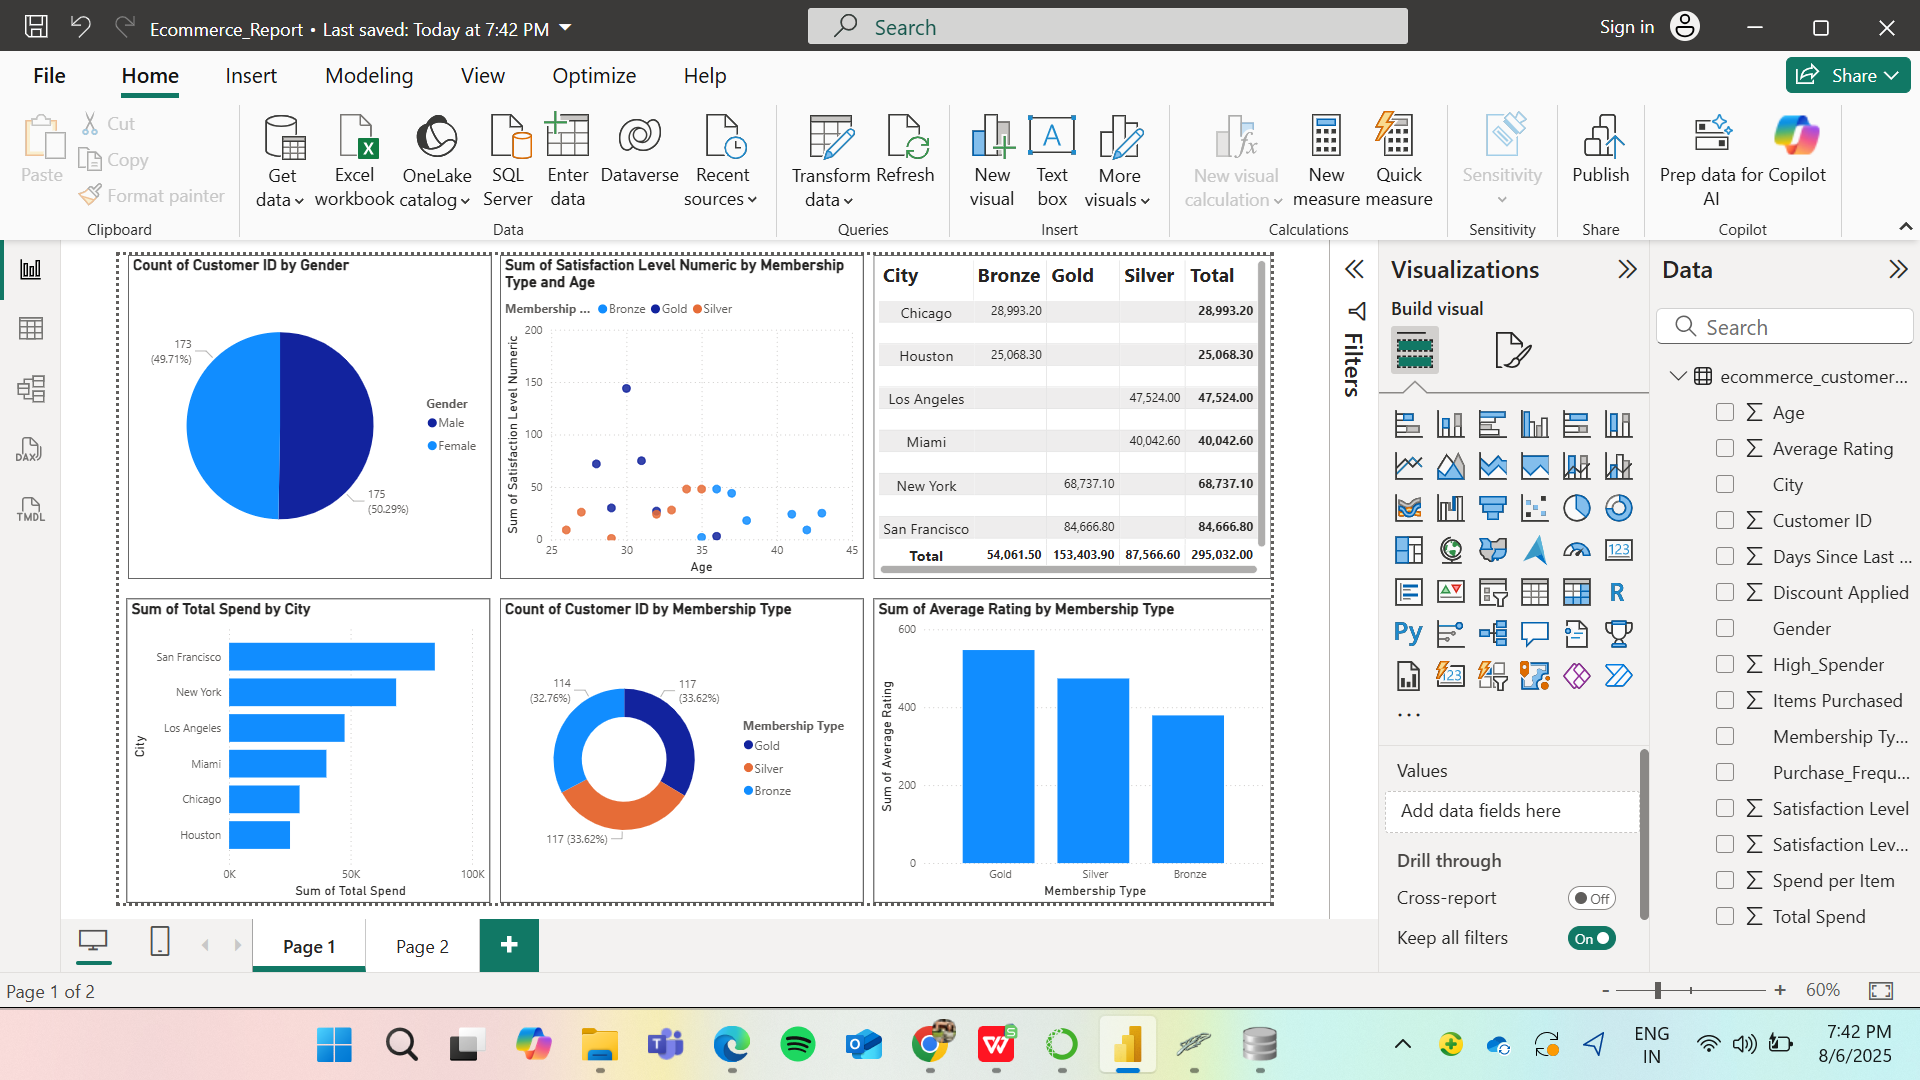

Layout of this report page (visuals, bound fields, positions):
{"tool":"powerbi","page":{"name":"Page 1","canvas":[1280,720],"ordinal":0},"visuals":[{"type":"pieChart","fields":{"Category":["ecommerce_customers_2.Gender"],"Y":["CountNonNull(ecommerce_customers_2.Customer ID)"]},"box":[10,0,404,360],"z":0},{"type":"clusteredBarChart","fields":{"Category":["ecommerce_customers_2.City"],"Y":["Sum(ecommerce_customers_2.Total Spend)"]},"box":[9,382,404,338],"z":1000},{"type":"scatterChart","fields":{"X":["ecommerce_customers_2.Age"],"Y":["Sum(ecommerce_customers_2.Satisfaction Level Numeric)"],"Series":["ecommerce_customers_2.Membership Type"]},"box":[424,0,404,360],"z":2000},{"type":"donutChart","fields":{"Category":["ecommerce_customers_2.Membership Type"],"Y":["CountNonNull(ecommerce_customers_2.Customer ID)"]},"box":[424,382,404,338],"z":3000},{"type":"pivotTable","fields":{"Rows":["ecommerce_customers_2.City"],"Columns":["ecommerce_customers_2.Membership Type"],"Values":["Sum(ecommerce_customers_2.Total Spend)"]},"box":[838,0,442,360],"z":4000},{"type":"columnChart","fields":{"Category":["ecommerce_customers_2.Membership Type"],"Y":["Sum(ecommerce_customers_2.Average Rating)"]},"box":[838,382,442,338],"z":5000}]}

Visuals, with their boxes on the page's 1280x720 design canvas (x1, y1, x2, y2). These are canvas units, not pixel positions in the 1920x1080 screenshot, which may show the page scaled, cropped or inside an application window:
pieChart - ecommerce_customers_2.Gender x CountNonNull(ecommerce_customers_2.Customer ID): <region>10, 0, 414, 360</region>
clusteredBarChart - ecommerce_customers_2.City x Sum(ecommerce_customers_2.Total Spend): <region>9, 382, 413, 720</region>
scatterChart - ecommerce_customers_2.Age x Sum(ecommerce_customers_2.Satisfaction Level Numeric): <region>424, 0, 828, 360</region>
donutChart - ecommerce_customers_2.Membership Type x CountNonNull(ecommerce_customers_2.Customer ID): <region>424, 382, 828, 720</region>
pivotTable - ecommerce_customers_2.City x ecommerce_customers_2.Membership Type: <region>838, 0, 1280, 360</region>
columnChart - ecommerce_customers_2.Membership Type x Sum(ecommerce_customers_2.Average Rating): <region>838, 382, 1280, 720</region>
